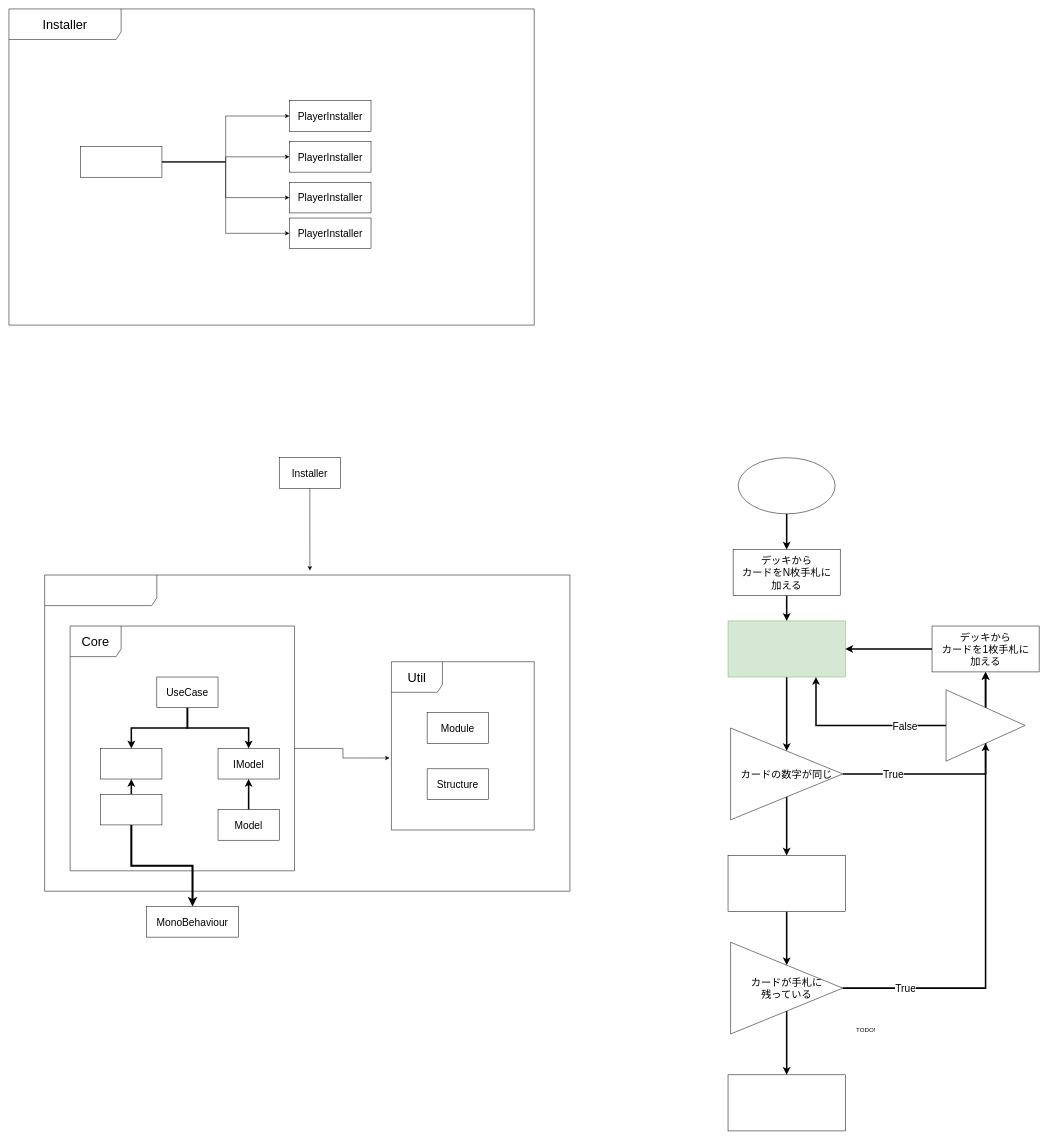
This 1048x1140 diagram has some shape labels left out. Each missing label, with the centre of its shape:
"Clean" goes at point (307, 733).
"GameInstaller" goes at point (121, 161).
"IView" goes at point (131, 763).
"Start" goes at point (786, 485).
"View" goes at point (131, 809).
"デッキに カードがある" goes at point (985, 725).
"両者使用するカードを 決定する。" goes at point (786, 648).
"勝った方にスコアを 与える" goes at point (786, 883).
"結果発表" goes at point (786, 1102).
